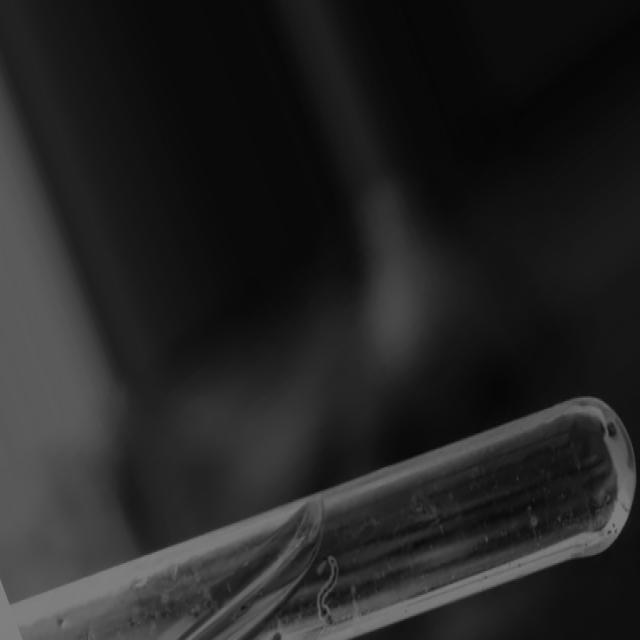larvas: (316, 555, 339, 629)
